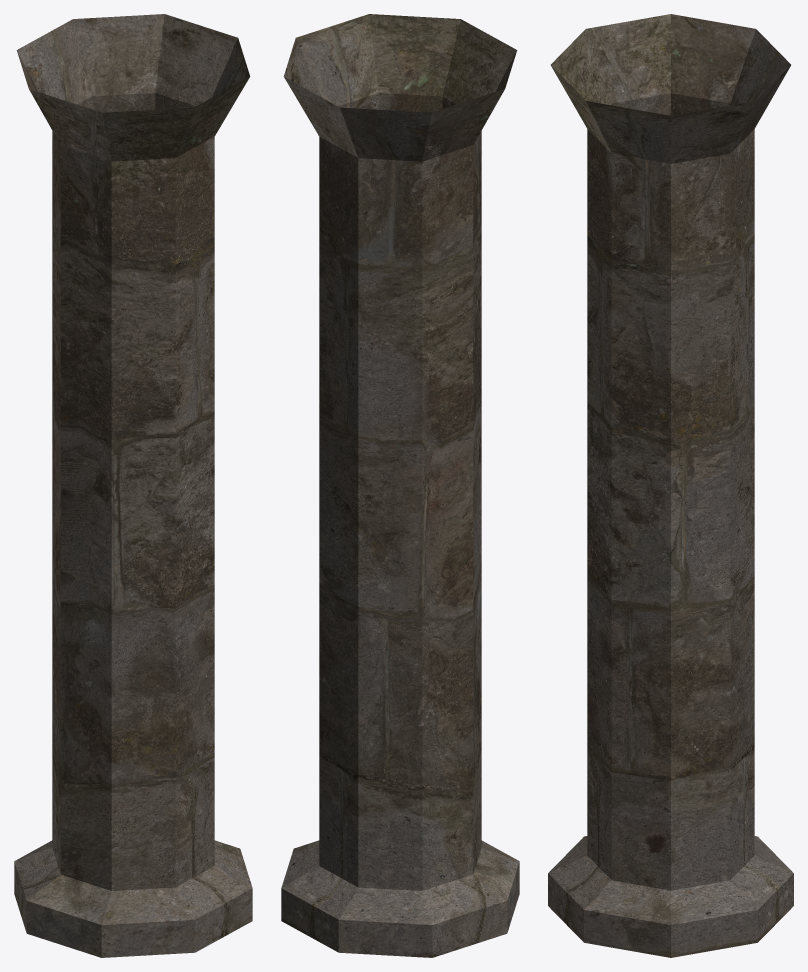
The model's file is Collumn.fbx.
3 renders of one model, left to right at view 1: azimuth 30°, elevation 25°; view 2: azimuth 150°, elevation 25°; view 3: azimuth 270°, elevation 25°, orthographic.
Parts seen in each view (by area): view 1: Collum; view 2: Collum; view 3: Collum.
Boxes of the visible parts, x1,y1,x2,y2 form: Collum: [14, 14, 252, 957]; Collum: [281, 14, 519, 957]; Collum: [548, 14, 793, 957].
Bounding box in the file's own units: 117 × 443 × 117.
